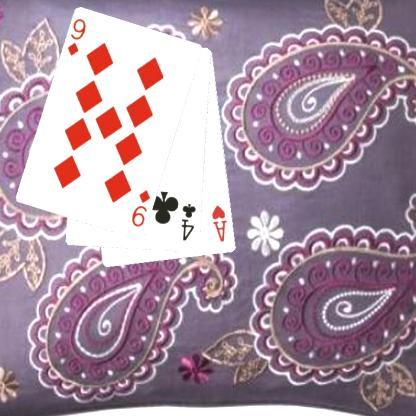4C: (179, 202, 197, 242)
9D: (129, 187, 152, 229), (65, 16, 87, 57)
AH: (209, 202, 229, 244)
